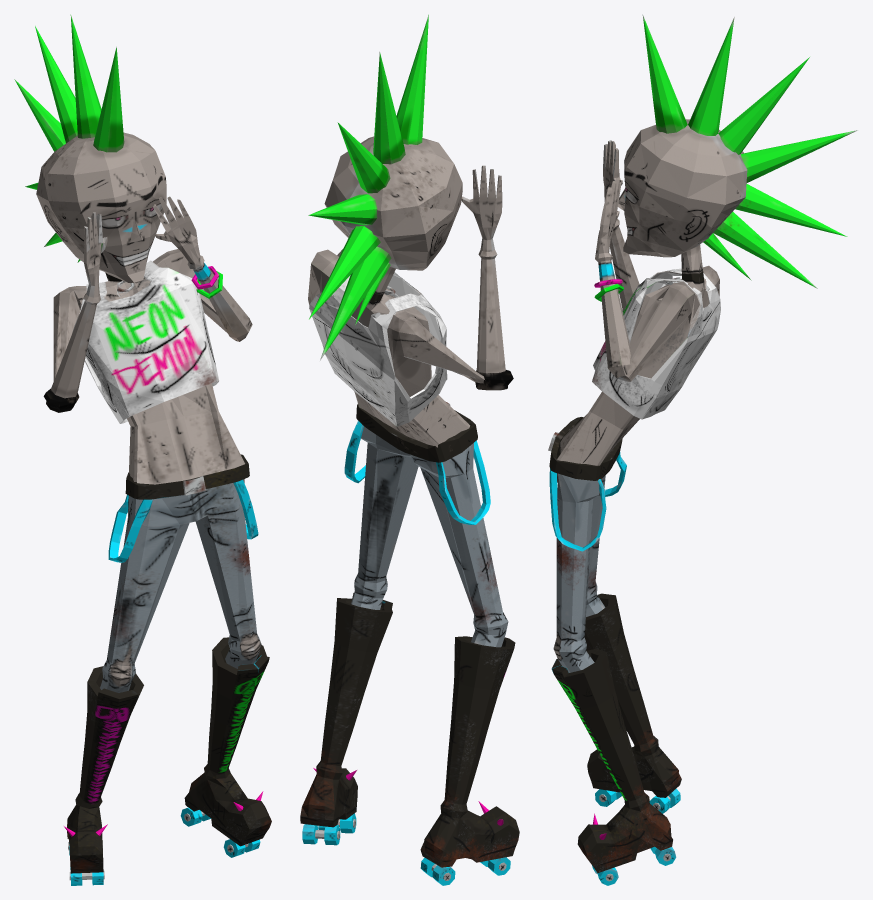
Rendered from punkAnimation_000007.obj.
3 renders of one model, left to right at view 1: azimuth 30°, elevation 25°; view 2: azimuth 150°, elevation 25°; view 3: azimuth 270°, elevation 25°, orthographic. The views are drawn at different scales.
Visible parts, largest first — view 1: Cube.004_Cube.003; view 2: Cube.004_Cube.003; view 3: Cube.004_Cube.003.
Boxes of the visible parts, x1,y1,x2,y2 form: Cube.004_Cube.003: (14,14,271,885); Cube.004_Cube.003: (300,14,519,885); Cube.004_Cube.003: (548,14,857,885).
Size of the model in its own units: 1.9 by 7.33 by 2.54.
